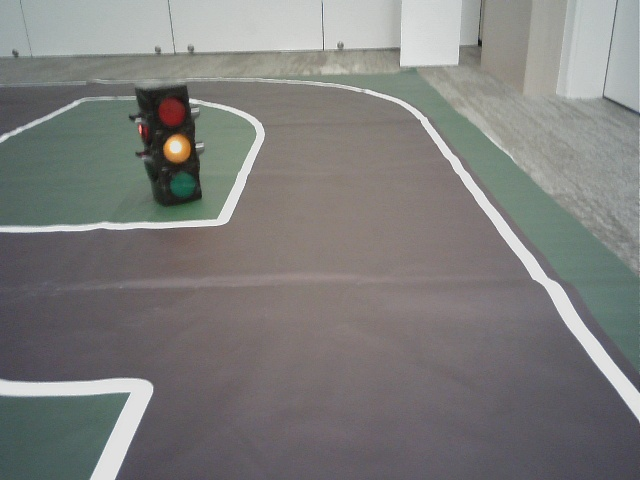yellow: (150, 88, 198, 199)
